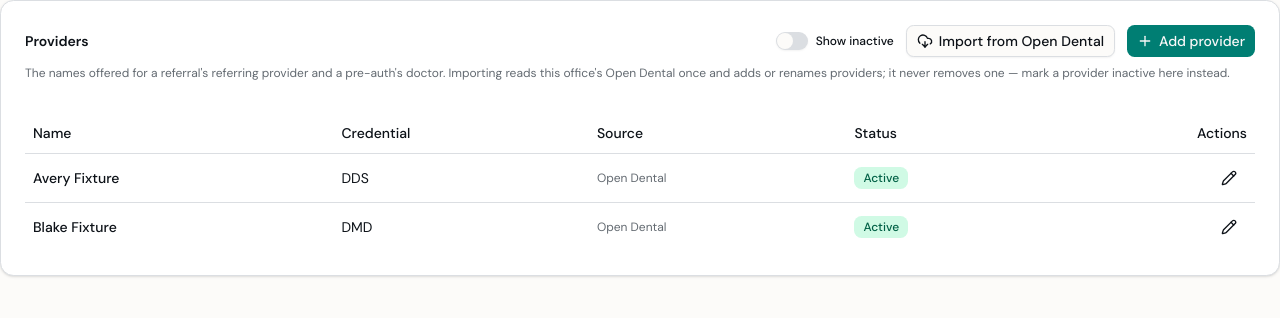
Test: Settings → Providers › admin/office: lists, imports from Open Dental (no fields sent) and says what it did
The image size is (1280, 318).
Expected: the text "Avery Fixture" is shown, [25,153,333,202]
Expected: the number of rows with test id "tc-provider-row" is 2, [25,153,1255,202]; [25,202,1255,250]
Click the button "Import from Open Dental" at (1010, 41), box [906,25,1115,57]
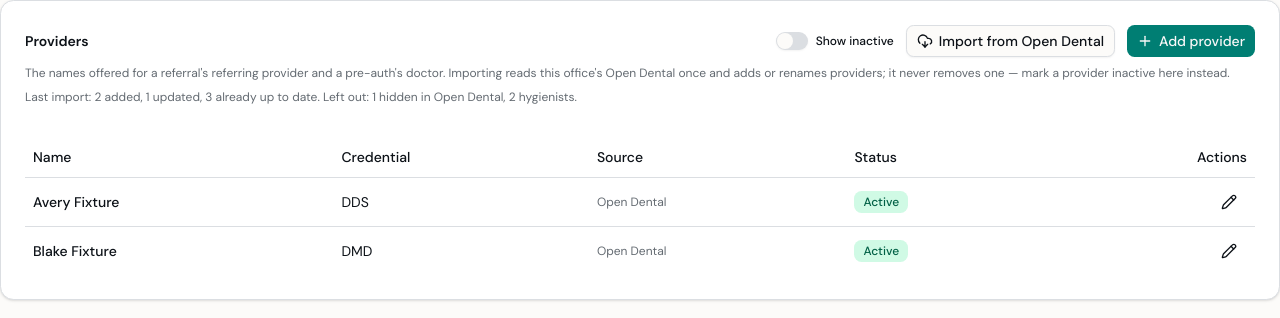
Now the text with test id "tc-provider-import-summary" is shown, box [25,89,577,105]
Now the text with test id "tc-provider-import-summary" shows "2 added, 1 updated, 3 already up to date. Left out: 1 hidden in Open Dental, 2 hygienists.", box [94,89,577,105]
